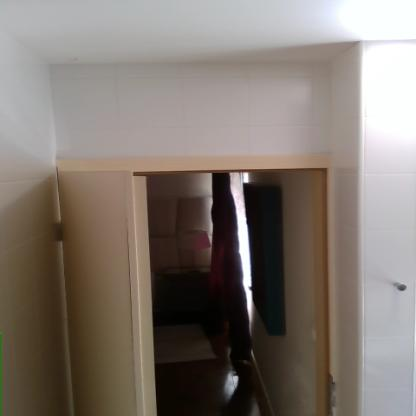semi: (78, 132, 343, 415)
